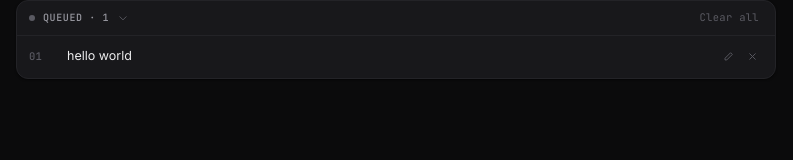
Scenario: QueuedMessages › row expand/collapse › clicking the same expanded row collapses it
This screenshot has width=793, height=160.
Click the button "01 hello world" at (99, 56), box [29, 46, 763, 68]
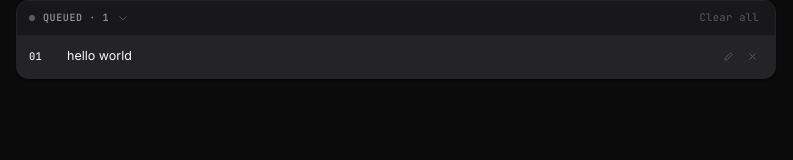
Now the button "01 hello world" is expanded
Click the button "01 hello world" at (99, 56), box [17, 36, 775, 78]
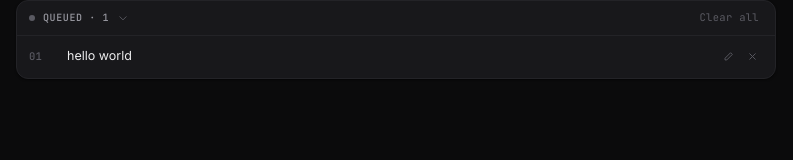
Now the button "01 hello world" is collapsed, box [29, 46, 763, 68]
